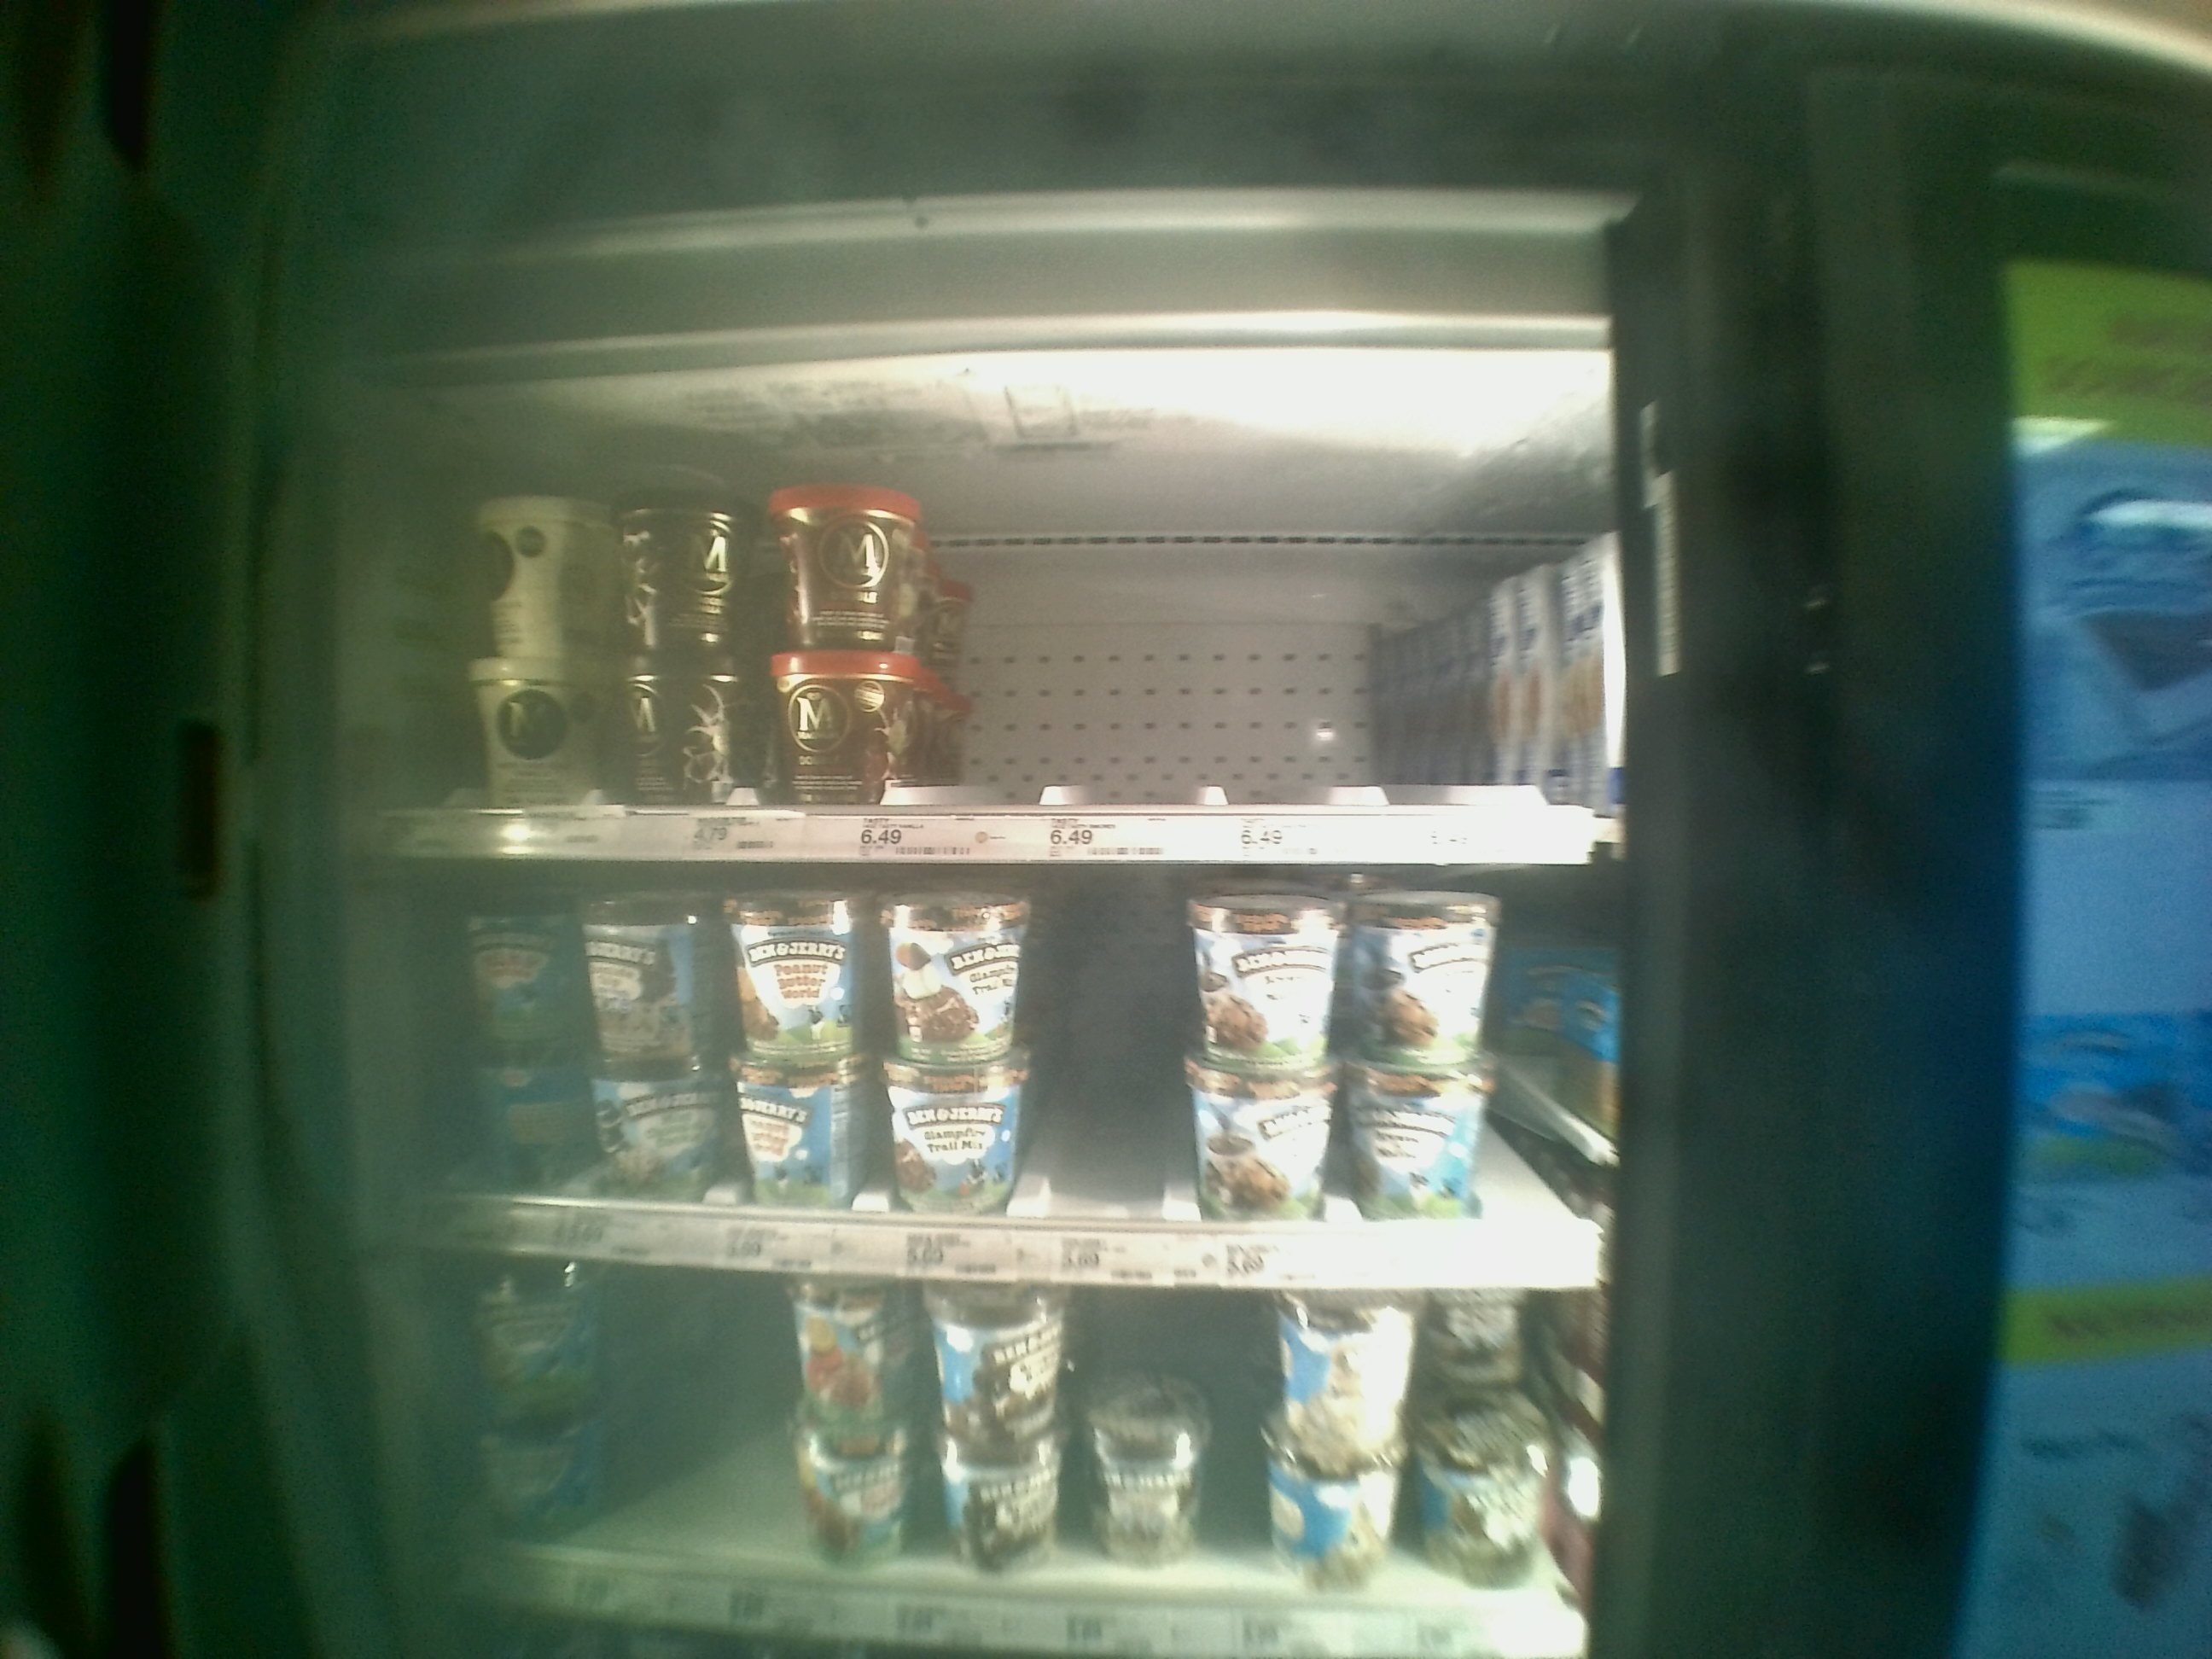ice-cream-shelf: (366, 392, 1616, 864), (355, 863, 1606, 1291)
